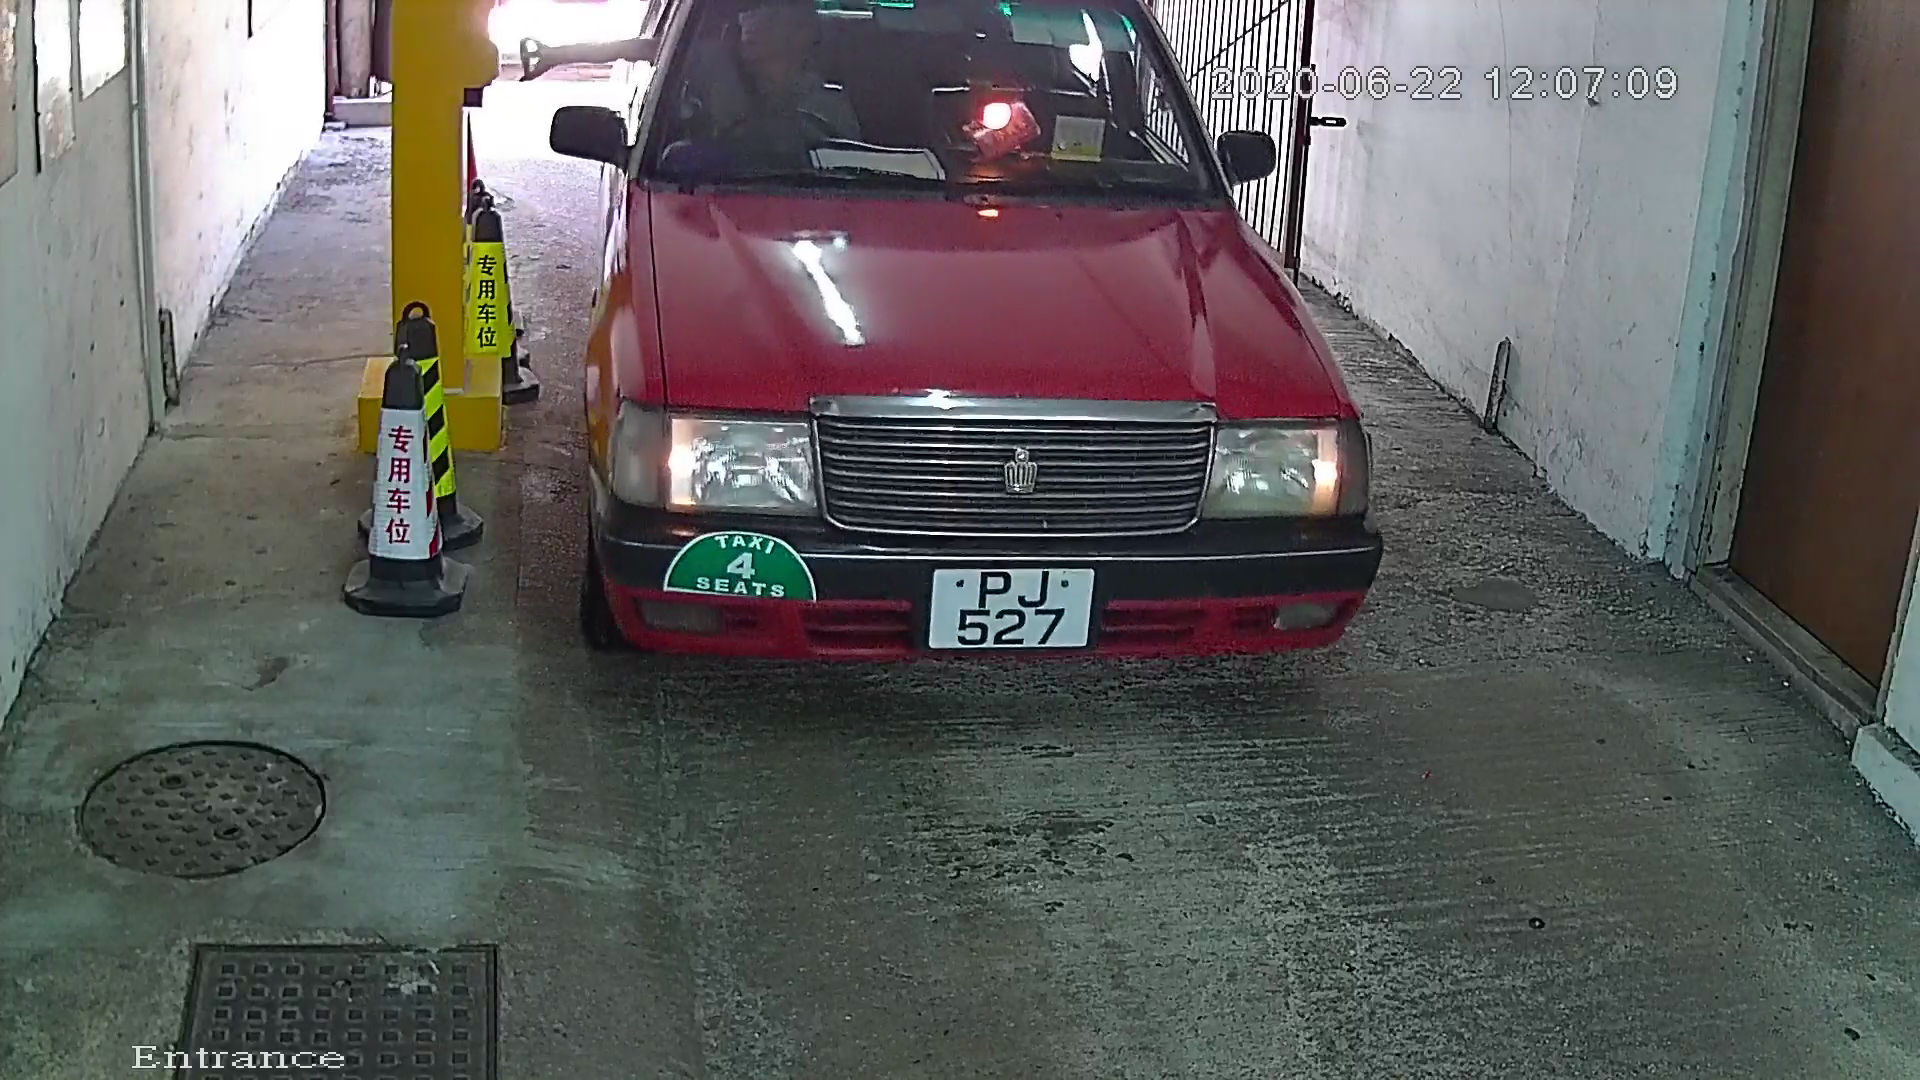taxi: (500, 1, 1443, 742)
taxi_mark: (650, 512, 861, 637)
